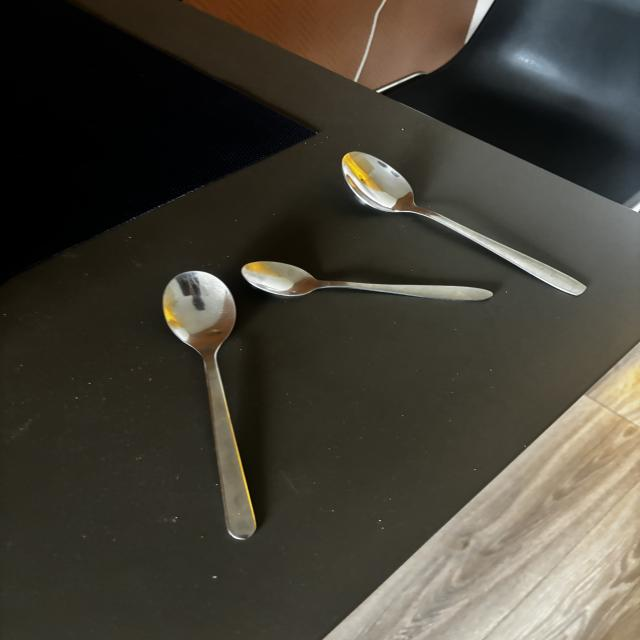spoon: (340, 153, 587, 296), (160, 271, 258, 545), (239, 261, 495, 305)
